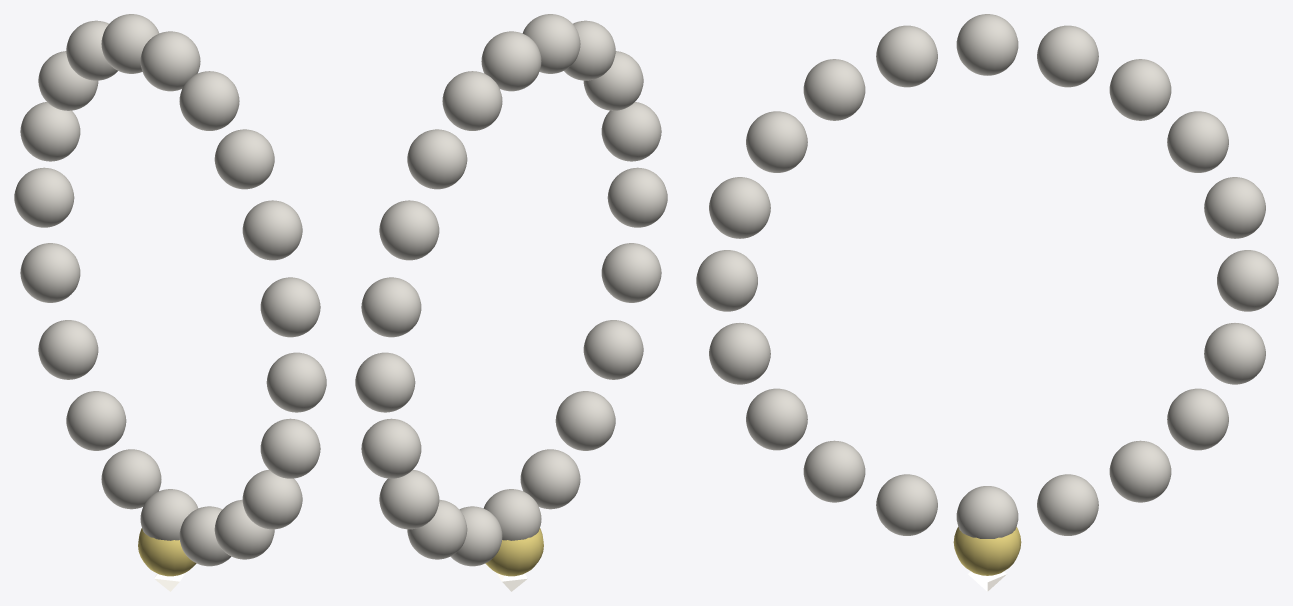
3 views of the same model, side by side, from view 1: azimuth 30°, elevation 25°; view 2: azimuth 150°, elevation 25°; view 3: azimuth 270°, elevation 25° (orthographic). The views are drawn at different scales.
Parts seen in each view (by area): view 1: part (×21); view 2: part (×21); view 3: part (×21).
Boxes of the visible parts, x1=… form: part (×21): x1=14, y1=14, x2=326, y2=576; part (×21): x1=355, y1=14, x2=667, y2=576; part (×21): x1=696, y1=14, x2=1278, y2=575.
Size of the model in its own units: 0.048 by 0.451 by 0.414.
